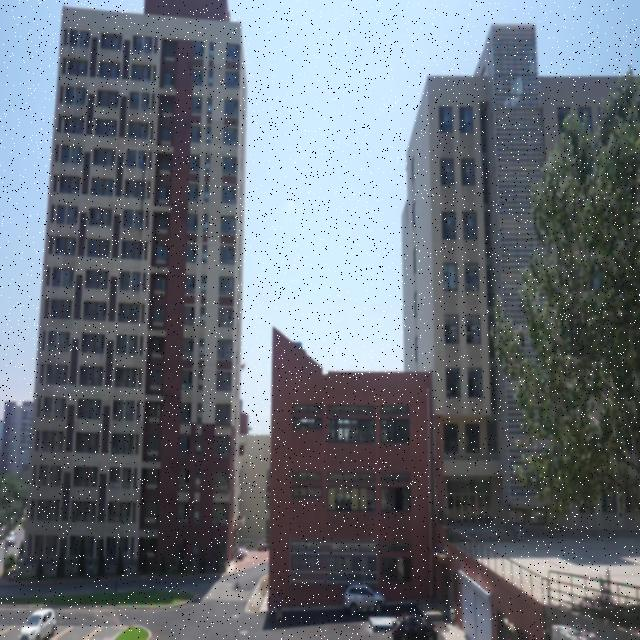UAV: (237, 360, 248, 372)
